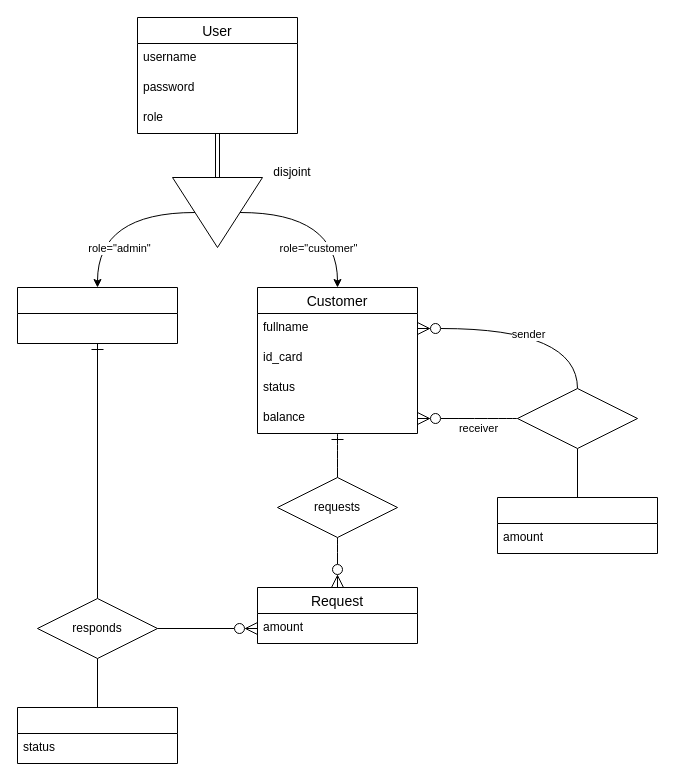
The diagram is 675 pixels wide and 784 high, and some of its shapes have lost their labels. The shapes that lost their labels are listed below. From the top down, each one's centre as x and y in pixels, then its label:
At pixel 217 212: "IS A".
At pixel 97 315: "Admin".
At pixel 577 418: "transfers".
